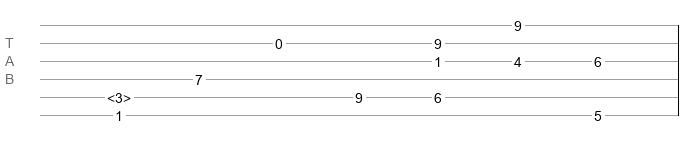0: (275, 36, 283, 46)
1: (115, 108, 123, 118), (434, 54, 442, 64)
4: (514, 54, 522, 64)
5: (594, 108, 602, 118)
6: (434, 90, 442, 100), (594, 54, 602, 64)
7: (195, 72, 203, 82)
9: (355, 90, 363, 100), (434, 36, 442, 46), (514, 18, 522, 28)
harmonic: (107, 90, 131, 100)
